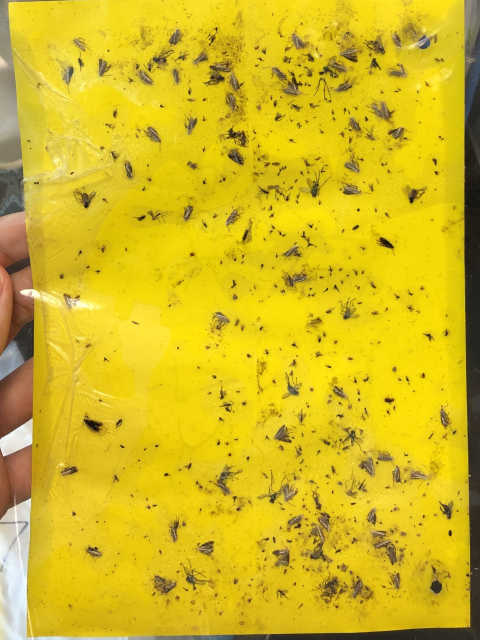DBM: (141, 124, 164, 151), (270, 541, 292, 569), (385, 124, 413, 143), (436, 402, 454, 431), (342, 181, 372, 198), (374, 233, 396, 256), (273, 423, 295, 446), (330, 383, 352, 405), (194, 539, 217, 560), (224, 207, 243, 232), (61, 291, 82, 313), (338, 44, 360, 64), (281, 243, 305, 261), (70, 34, 91, 54), (188, 49, 210, 68), (226, 72, 244, 95), (281, 482, 299, 505), (281, 80, 305, 97), (360, 454, 377, 478), (93, 58, 113, 78), (210, 311, 231, 330), (288, 31, 307, 51), (136, 68, 155, 88), (213, 478, 233, 497), (389, 462, 404, 487), (158, 578, 180, 595), (386, 63, 409, 79), (166, 28, 185, 47), (62, 64, 74, 94), (84, 544, 104, 562), (316, 513, 334, 533), (387, 571, 403, 593), (378, 98, 393, 121), (184, 112, 199, 135), (365, 505, 380, 528), (374, 449, 398, 463), (289, 267, 308, 284), (286, 512, 305, 529), (349, 575, 363, 598), (267, 65, 287, 81), (327, 59, 348, 74), (333, 78, 355, 92), (408, 467, 430, 481), (388, 30, 404, 49), (346, 114, 362, 133), (167, 66, 182, 86), (343, 158, 361, 174), (180, 202, 195, 221), (368, 526, 388, 540), (313, 523, 327, 543), (165, 525, 180, 543), (122, 159, 135, 179), (150, 572, 168, 586), (372, 539, 393, 550)
